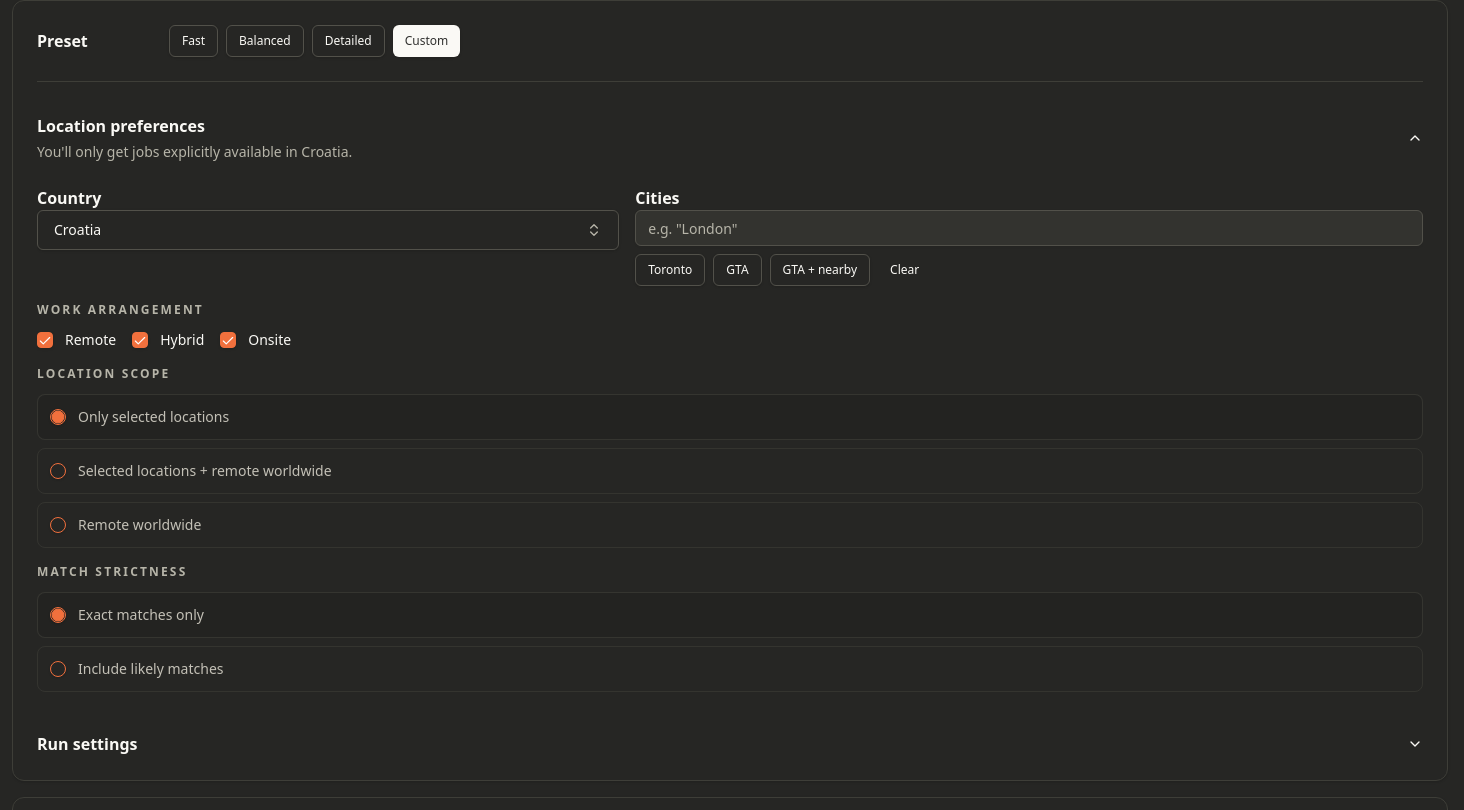
Test: AutomaticRunTab › requires at least one workplace type
What coordinates should you click on to do the following:
click the 1st checkbox named "Remote"
I would click on:
 (45, 340)
Its box is [37,332,53,348].
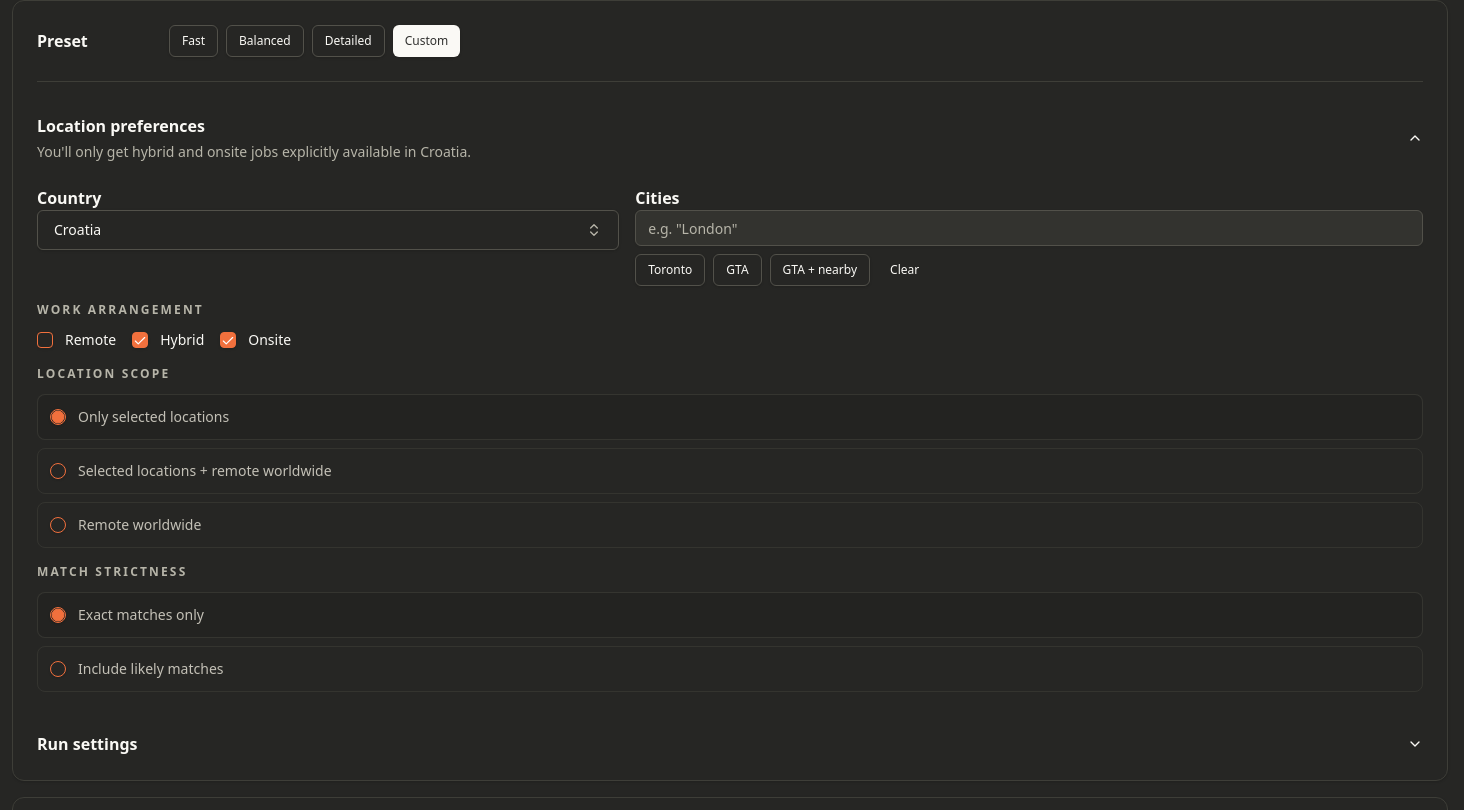
What coordinates should you click on to do the following:
click the 2nd checkbox named "Hybrid"
I would click on:
 (140, 340)
Its box is [132,332,148,348].
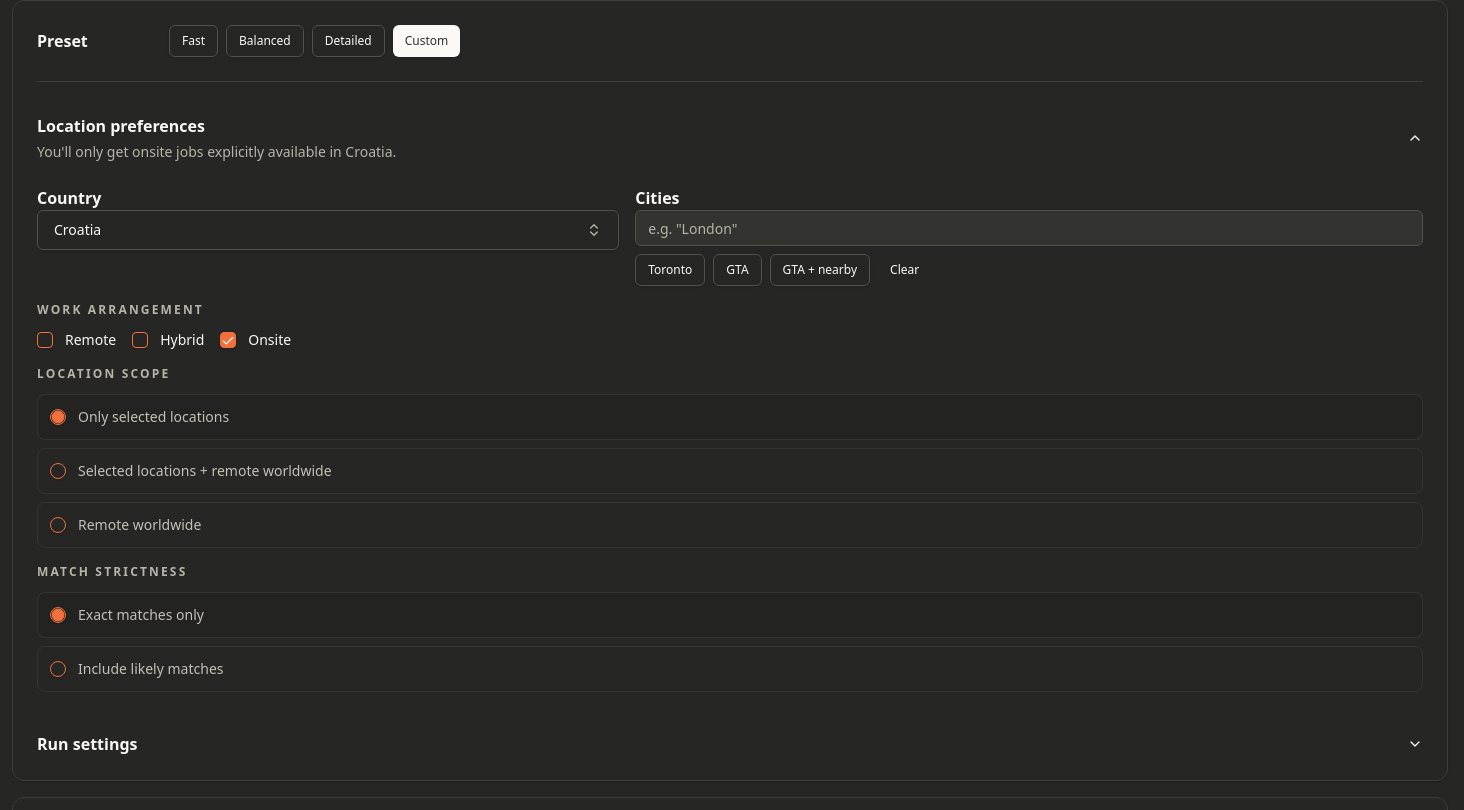
What coordinates should you click on to do the following:
click the 3rd checkbox named "Onsite"
I would click on:
 (228, 340)
Its box is [220,332,236,348].
(page scrolled)
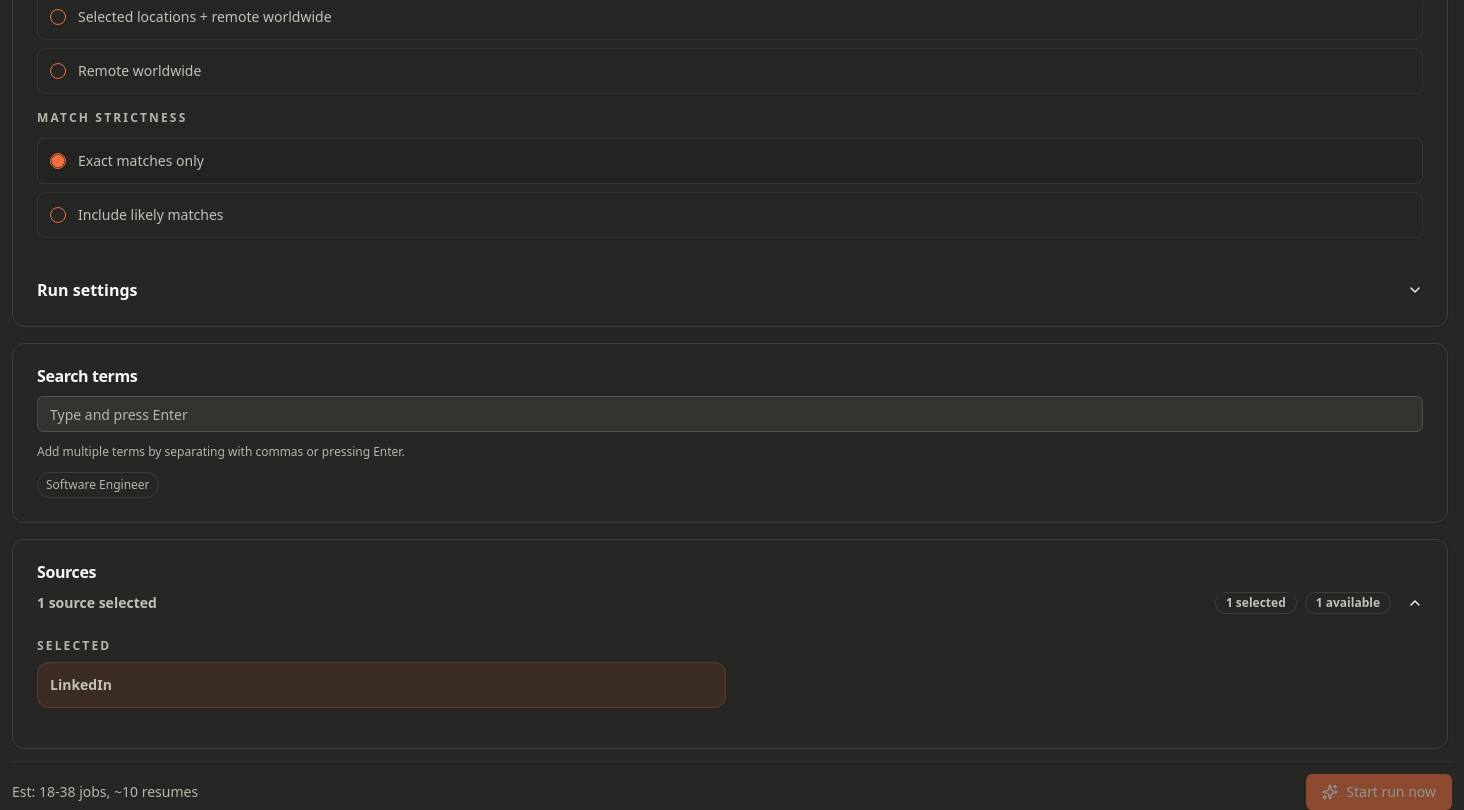
Now the button "Start run now" is disabled, box [1306,774,1452,809]
